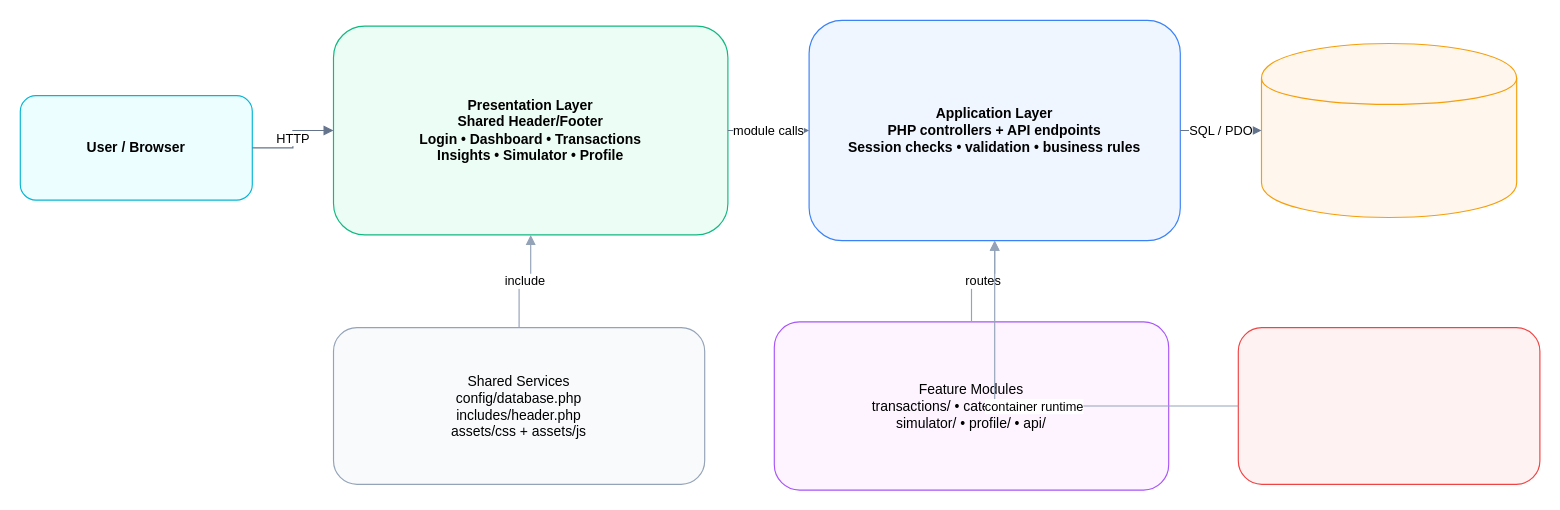
The diagram is 1560 pixels wide and 510 high, and some of its shapes have lost their labels. Here are the shapes that lost their labels. From the top down, the box of each, then its label:
(1260, 42, 1517, 217): Persistence MySQL database PDO prepared statements
(1237, 327, 1540, 484): Runtime / Deployment Docker Desktop • Docker Compose App :8080 • MySQL :3307
